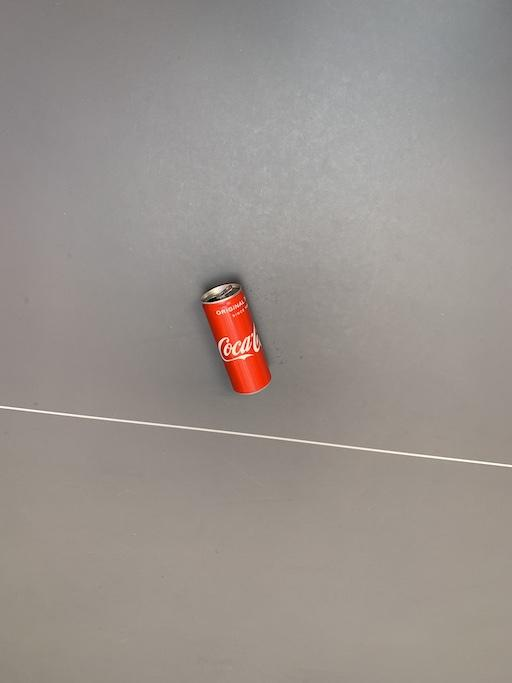Aluminum can: (188, 264, 294, 411)
